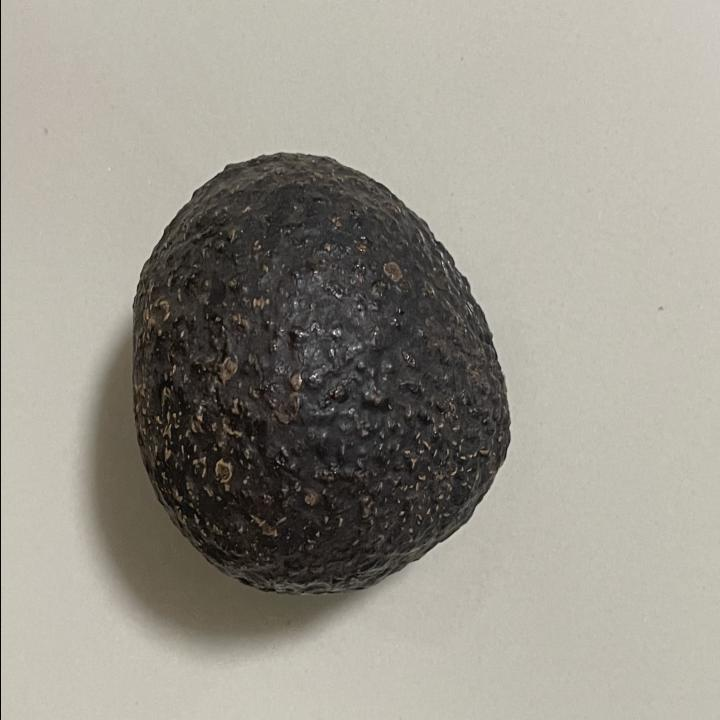Level2: (123, 148, 520, 604)
